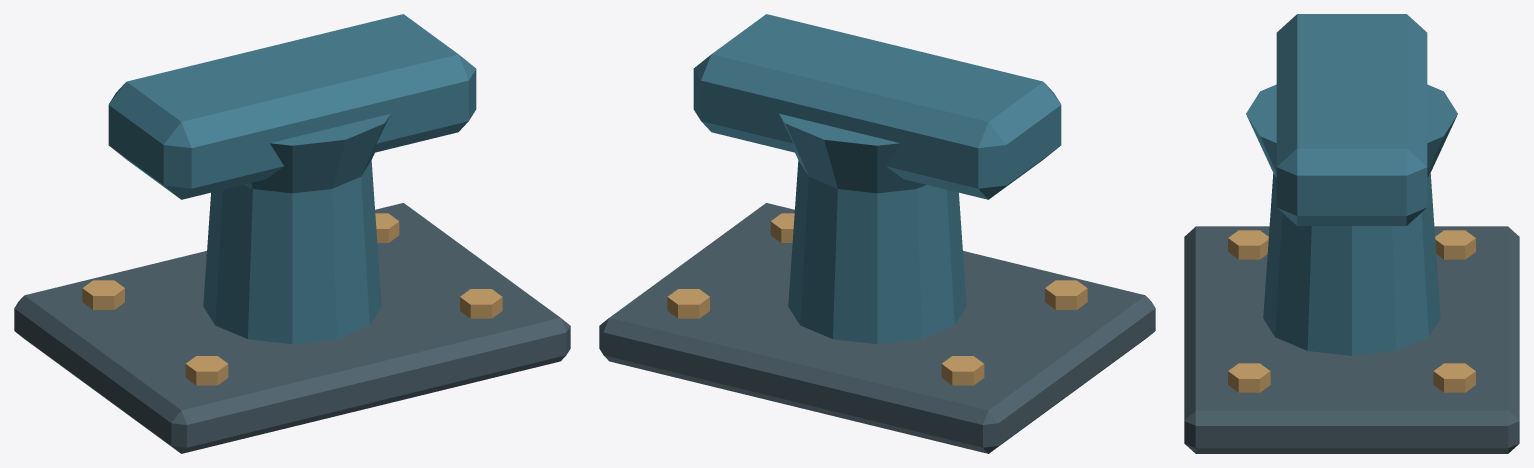
The model's file is 04_Mooring_Bollard.glb.
3 renders of one model, left to right at view 1: azimuth 30°, elevation 25°; view 2: azimuth 150°, elevation 25°; view 3: azimuth 270°, elevation 25°, orthographic.
Visible parts, largest first — view 1: 04_Mooring_Bollard__Body; view 2: 04_Mooring_Bollard__Body; view 3: 04_Mooring_Bollard__Body.
Boxes of the visible parts, x1,y1,x2,y2 form: 04_Mooring_Bollard__Body: [14, 14, 570, 453]; 04_Mooring_Bollard__Body: [599, 14, 1155, 453]; 04_Mooring_Bollard__Body: [1184, 14, 1519, 453].
Bounding box in the file's own units: 1.34 × 0.905 × 0.98.
Materials: 1 (1 with a texture image).
